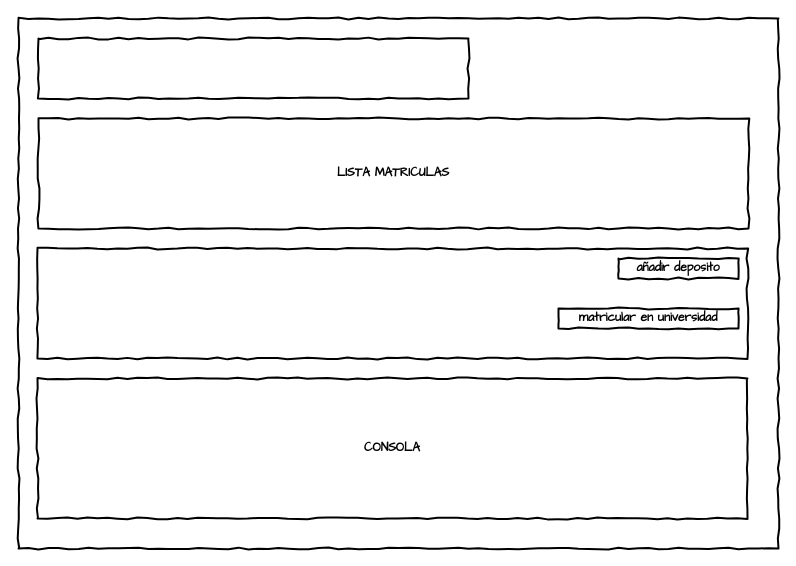
This 796x566 diagram has some shape labels left out. The shapes that lost their labels are listed below. From the top down, each one's box as (x1, y1, x2, y2) in pixels, then its label:
(37, 37, 469, 99): INFORMACION ESTUDIANTE
(36, 247, 748, 359): LISTA DEPOSITOS
